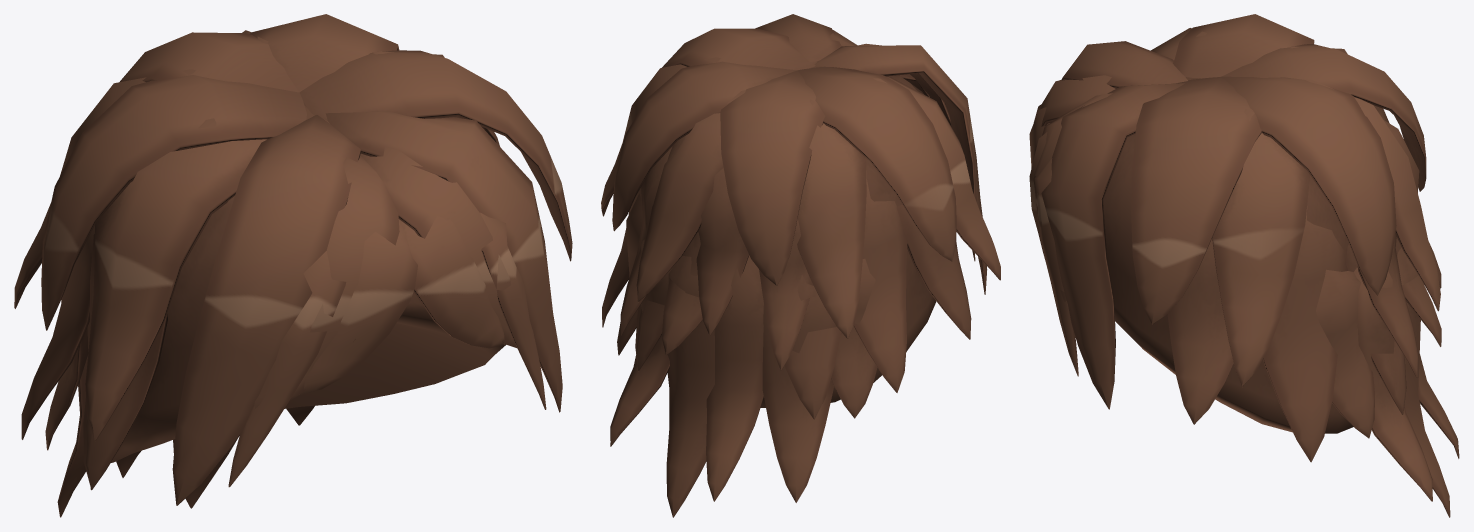
File: FluffyWolfCut_Chatain.fbx
3 views of the same model, side by side, from view 1: azimuth 30°, elevation 25°; view 2: azimuth 150°, elevation 25°; view 3: azimuth 270°, elevation 25° (orthographic). The views are drawn at different scales.
Parts seen in each view (by area): view 1: FluffyWolfCut; view 2: FluffyWolfCut; view 3: FluffyWolfCut.
Boxes of the visible parts, box(x1,y1,x2,y2) form: FluffyWolfCut: box(14, 14, 572, 517); FluffyWolfCut: box(601, 14, 1000, 517); FluffyWolfCut: box(1029, 14, 1459, 517).
Size of the model in its own units: 1.71 by 1.78 by 1.56.
1 material, 1 textured.
